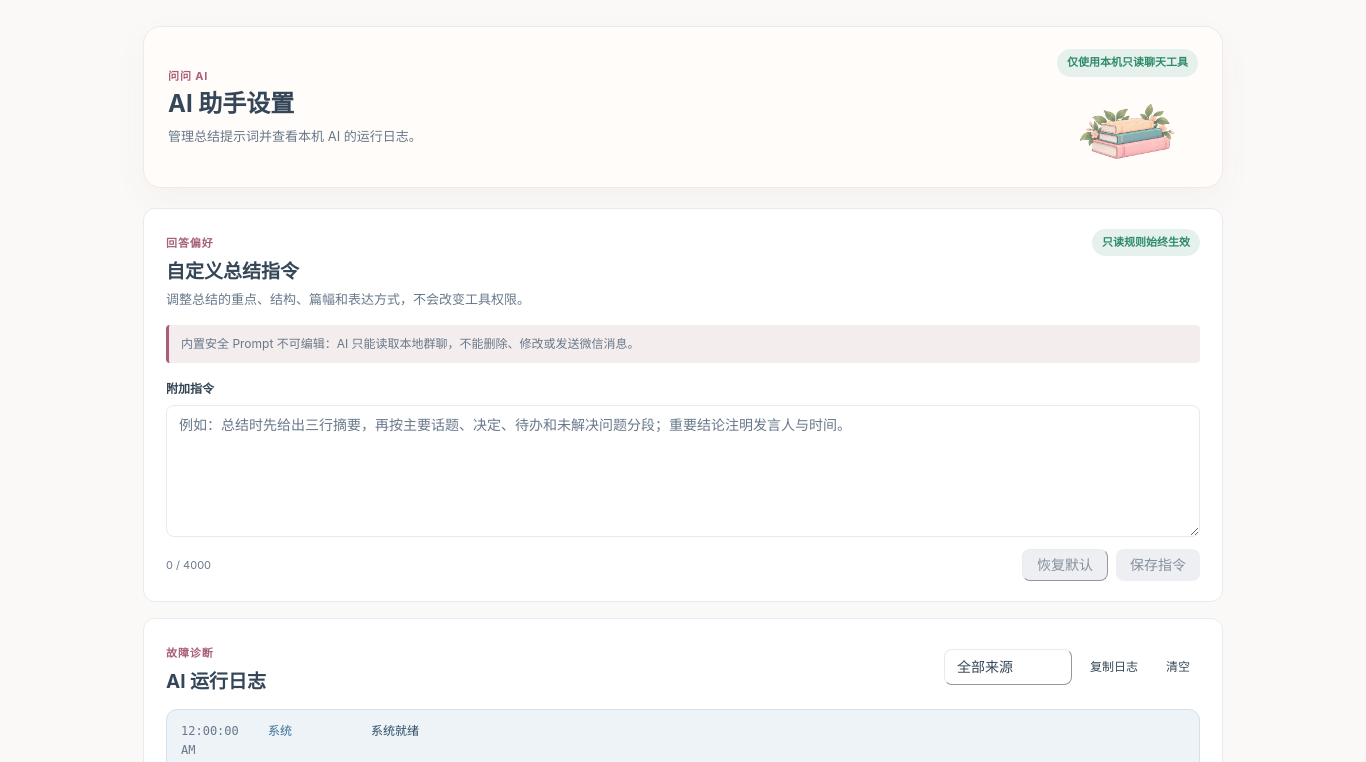
Scenario: AI assistant settings › filters, copies, and clears local AI logs
Check: the text "系统就绪" is shown, box left=371, top=724, right=419, bottom=738
Step 1. Click the dropdown named "筛选日志来源" → (1008, 667), box left=944, top=649, right=1072, bottom=685
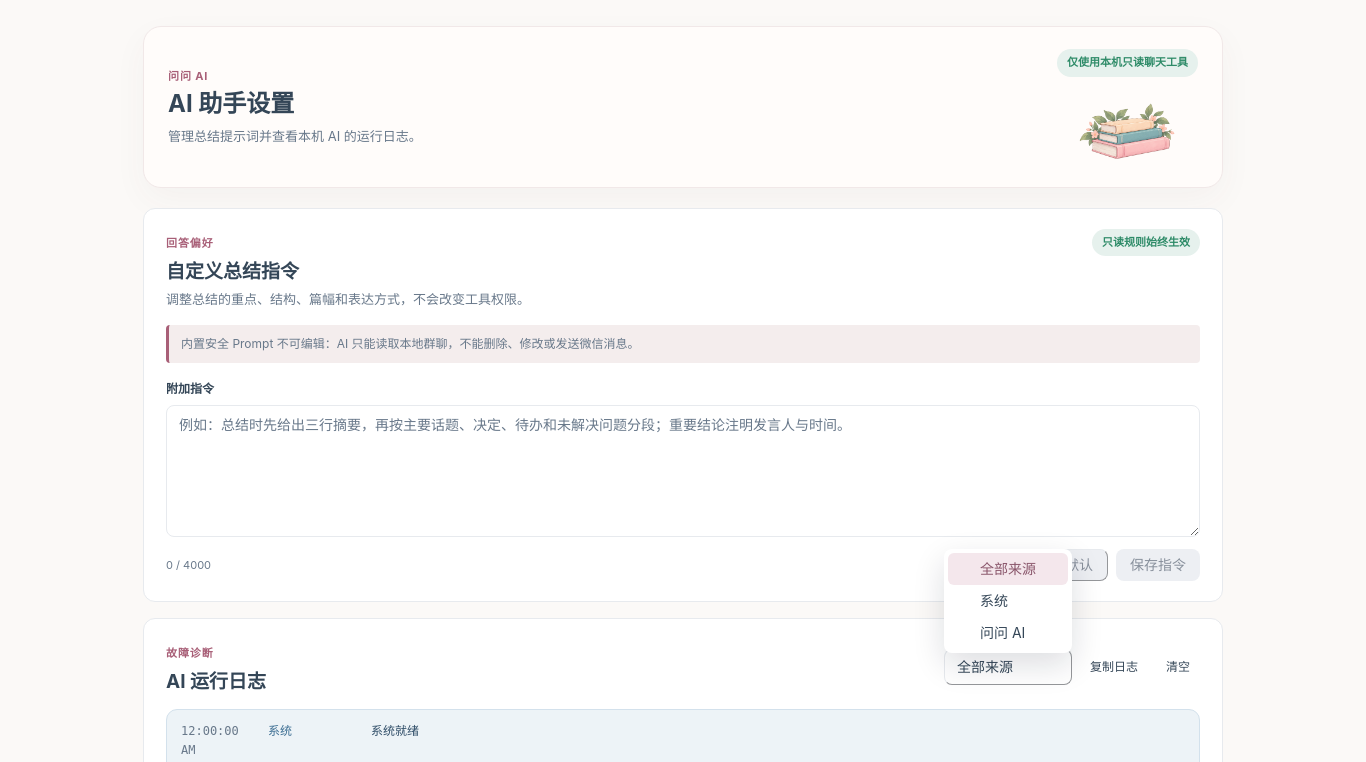
Step 2. Click the option "系统" → (994, 600), box left=980, top=592, right=1008, bottom=609
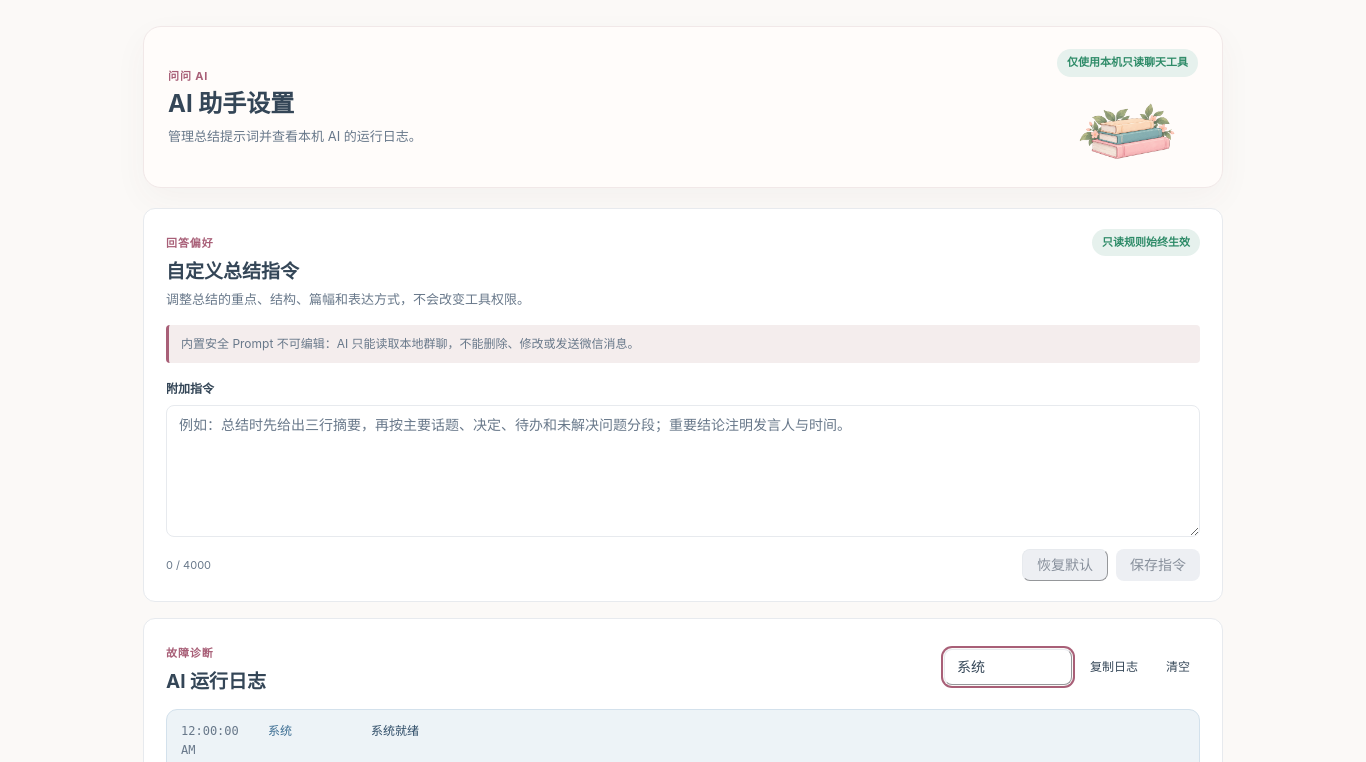
Check: the text "系统就绪" is shown, box left=371, top=724, right=419, bottom=738
Step 3. Click the button "复制日志" → (1114, 667), box left=1080, top=653, right=1148, bottom=681
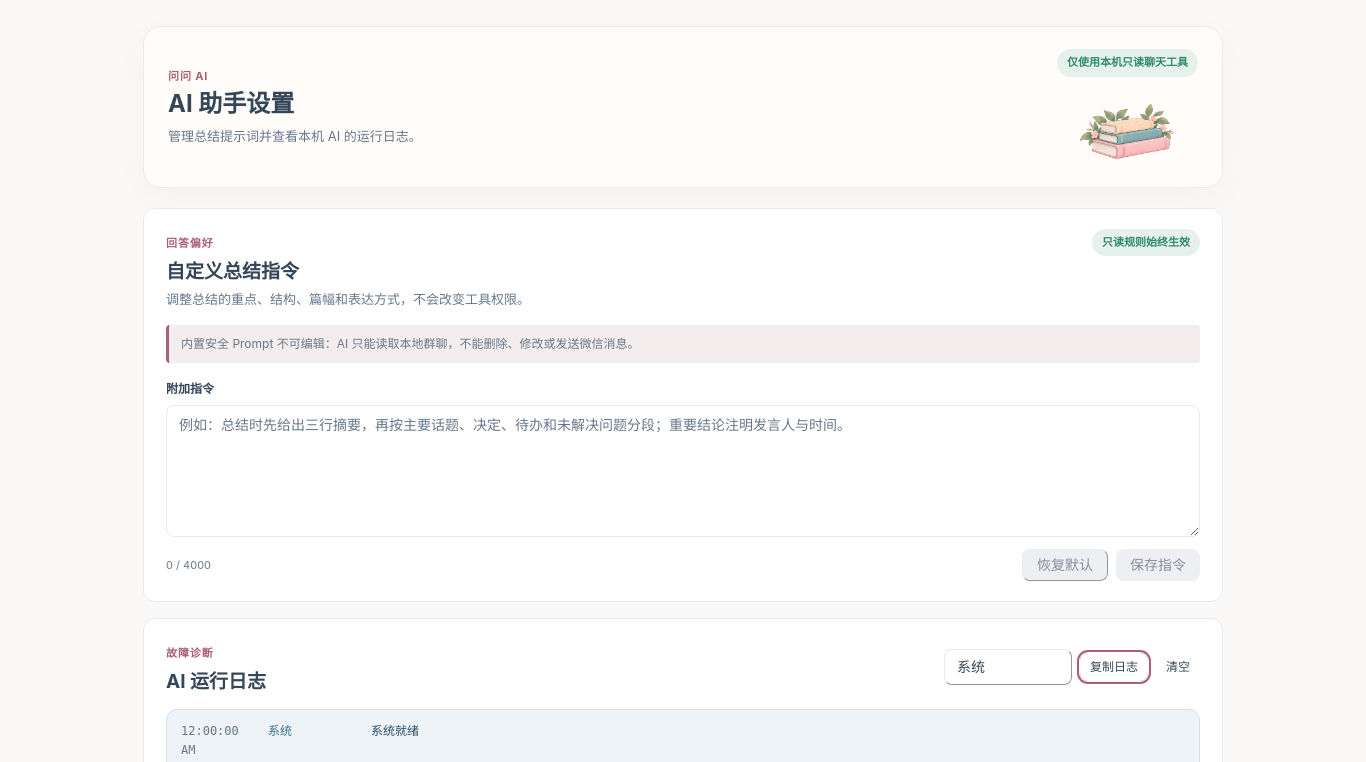
Step 4. Click the button "清空" → (1178, 667), box left=1156, top=653, right=1200, bottom=681
(page scrolled)
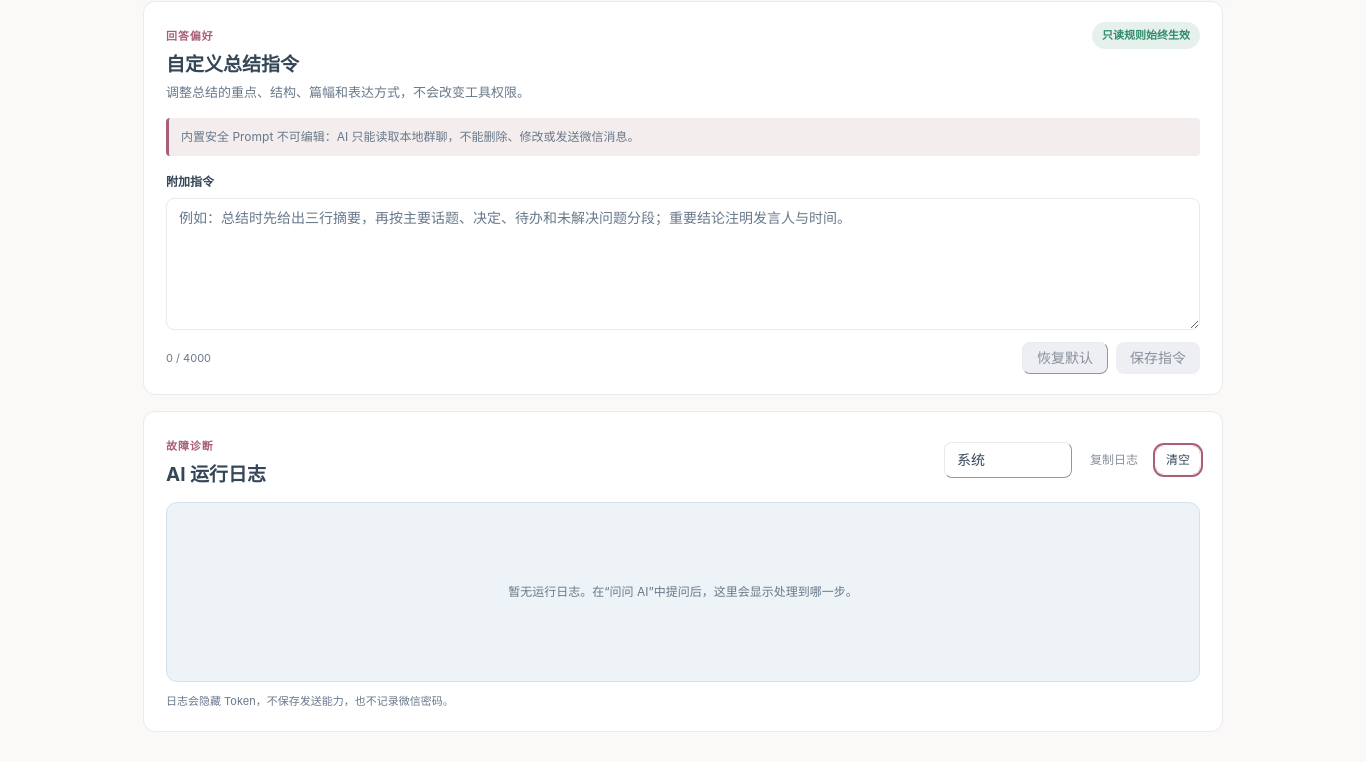
Check: the text "暂无运行日志。在“问问 AI”中提问后，这里会显示处理到哪一步。" is shown, box left=508, top=584, right=858, bottom=599
